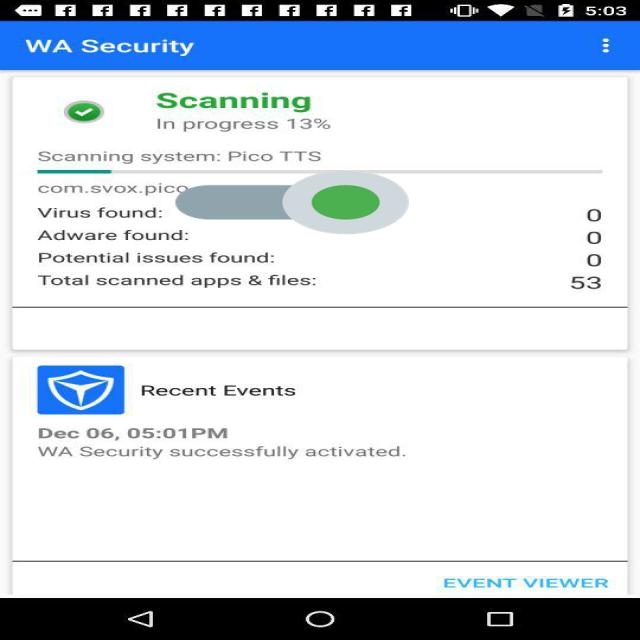social proof: (175, 144, 409, 262)
